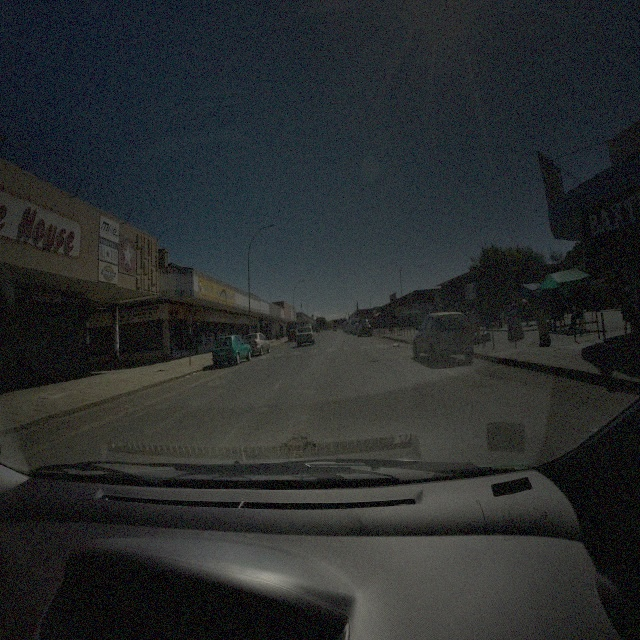pothole: (281, 434, 318, 458), (368, 358, 378, 364)
